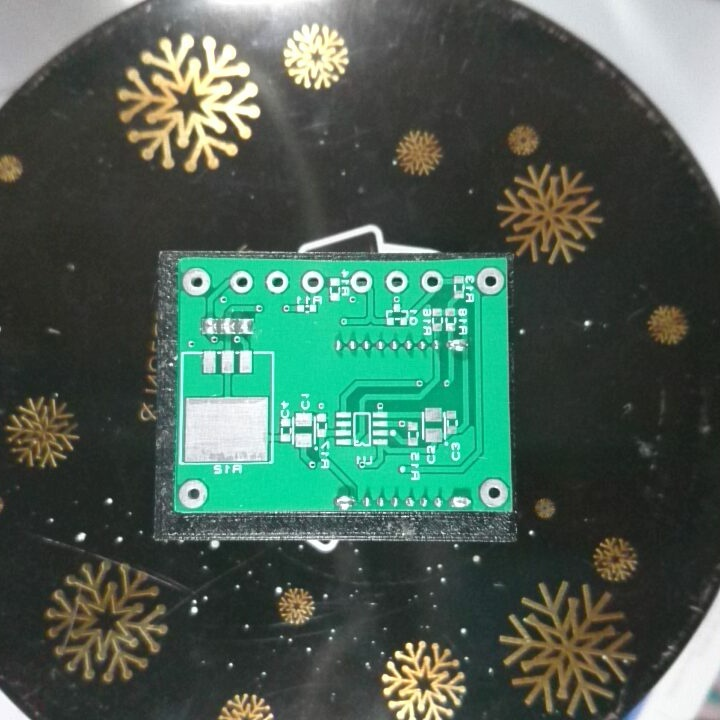F: (473, 265, 506, 299), (180, 266, 213, 298), (176, 478, 210, 509), (478, 476, 511, 507), (382, 266, 410, 294), (419, 267, 445, 295), (263, 268, 289, 295), (227, 269, 253, 296), (299, 268, 325, 294), (348, 268, 371, 295)
P: (332, 487, 359, 511), (445, 335, 471, 354), (447, 493, 472, 510)
